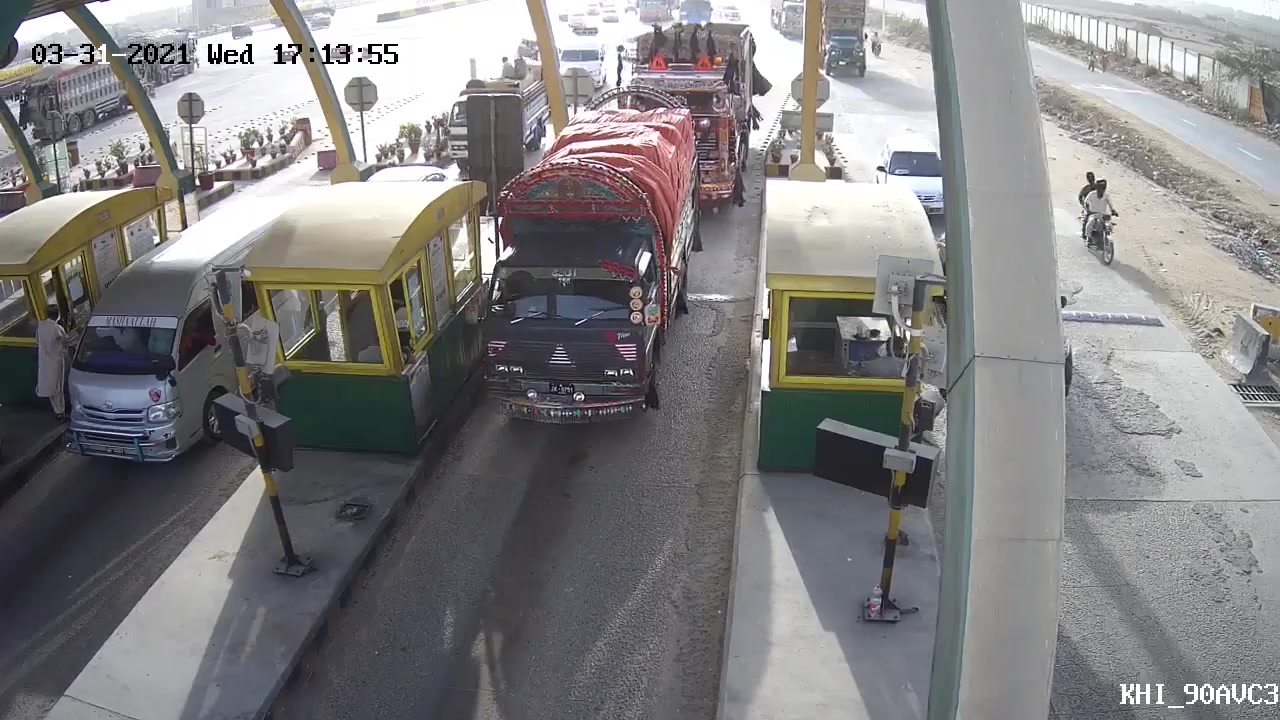F3: (460, 86, 703, 444)
